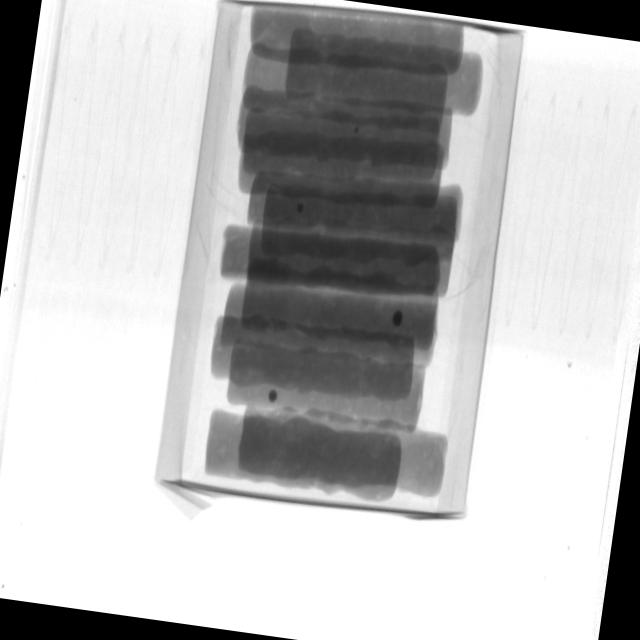ym: (392, 311, 405, 329), (269, 390, 280, 403), (298, 205, 305, 213), (354, 125, 361, 133)
